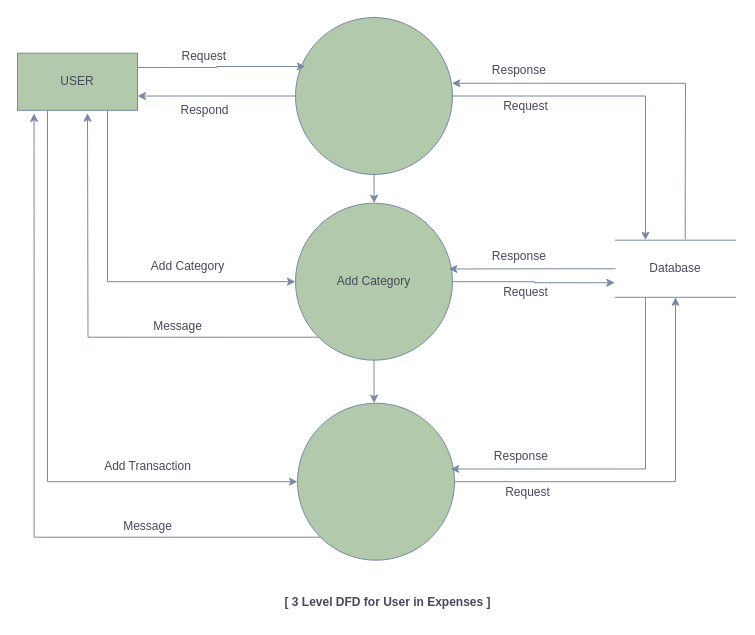
The diagram is 755 pixels wide and 635 high, and some of its shapes have lost their labels. The box of each missing label's shape, as (x1, y1, x2, y2) in pixels:
Add Transactions: (296, 402, 454, 560)
Expenses: (294, 16, 452, 174)
